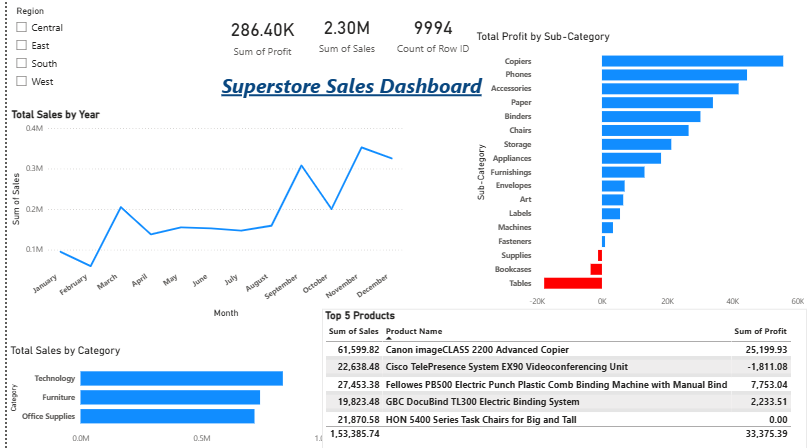

This screenshot's page, from the dashboard's own definition file:
{"tool":"powerbi","page":{"name":"Page 1","canvas":[1280,720],"ordinal":0},"visuals":[{"type":"card","fields":{"Values":["Sum(clean_superstore.Sales)"]},"box":[470,0,148,106],"z":0},{"type":"card","fields":{"Values":["Sum(clean_superstore.Profit)"]},"box":[338,4,142,106],"z":1000},{"type":"card","fields":{"Values":["CountNonNull(clean_superstore.Row ID)"]},"box":[618,0,128,106],"z":2000},{"type":"clusteredBarChart","title":"Total Sales by Category","fields":{"Category":["clean_superstore.Category"],"Y":["Sum(clean_superstore.Sales)"]},"box":[0,550,524,170],"z":2001},{"type":"lineChart","title":"Total Sales by Year","fields":{"Category":["clean_superstore.Month.Variation.Date Hierarchy.Month","clean_superstore.Month.Variation.Date Hierarchy.Day"],"Y":["Sum(clean_superstore.Sales)"]},"box":[2,172,638,342],"z":2002},{"type":"barChart","title":"Total Profit by Sub-Category","fields":{"Category":["clean_superstore.Sub-Category"],"Y":["Sum(clean_superstore.Profit)"]},"box":[746,48,534,466],"z":2003},{"type":"tableEx","title":"Top 5 Products","fields":{"Values":["Sum(clean_superstore.Sales)","clean_superstore.Product Name","Sum(clean_superstore.Profit)"]},"box":[504,494,776,226],"z":2004},{"type":"textbox","box":[338,110,436,54],"z":2005},{"type":"slicer","fields":{"Values":["clean_superstore.Region"]},"box":[2,4,312,160],"z":2006}]}

Visuals, with their boxes in screenshot pixels (x1, y1, x2, y2), scaled from the page's 1280x720 canvas onto the 807x448 screenshot:
card - Sum(clean_superstore.Sales): <region>296, 0, 390, 66</region>
card - Sum(clean_superstore.Profit): <region>213, 2, 303, 68</region>
card - CountNonNull(clean_superstore.Row ID): <region>390, 0, 470, 66</region>
"Total Sales by Category" clusteredBarChart: <region>0, 342, 330, 447</region>
"Total Sales by Year" lineChart: <region>1, 107, 404, 320</region>
"Total Profit by Sub-Category" barChart: <region>470, 30, 806, 320</region>
"Top 5 Products" tableEx: <region>318, 307, 806, 447</region>
textbox: <region>213, 68, 488, 102</region>
slicer - clean_superstore.Region: <region>1, 2, 198, 102</region>
